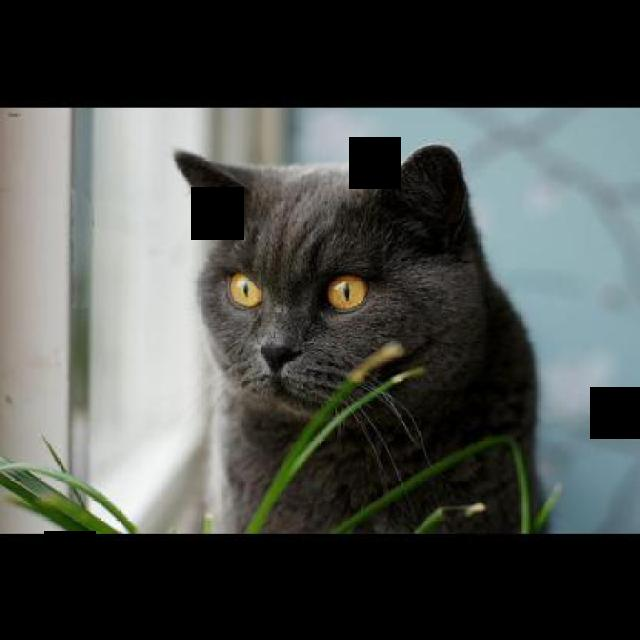unauthorized: (172, 141, 548, 534)
